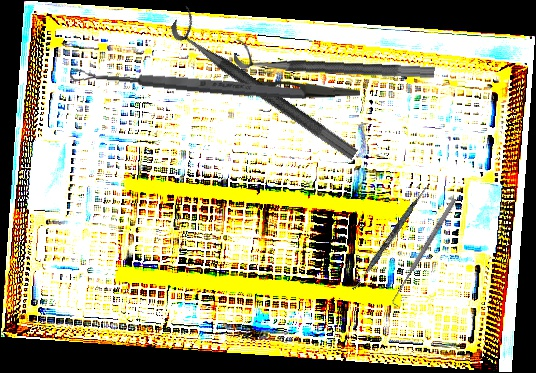Dressing Forceps: (222, 73, 361, 102)
Fixation Ring: (166, 5, 370, 162), (233, 38, 436, 80)
Hook Surgical: (388, 196, 462, 308)
Spatula Surgical: (351, 184, 429, 293)
Surgical Spoon: (69, 66, 306, 102)
